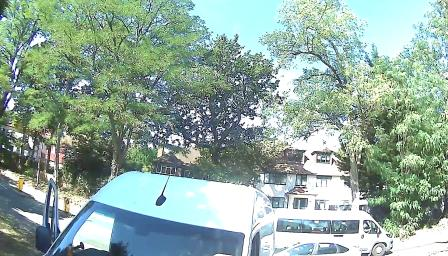Cars: (271, 206, 391, 252), (278, 242, 363, 256)
